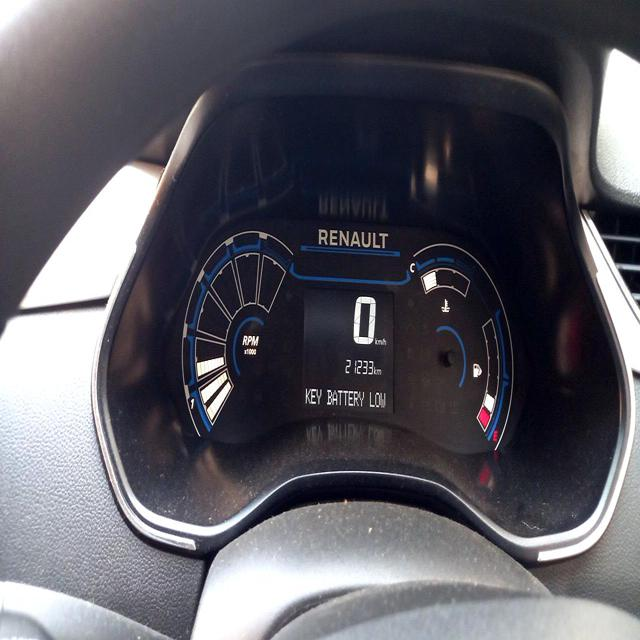odometer: (340, 354, 375, 380)
